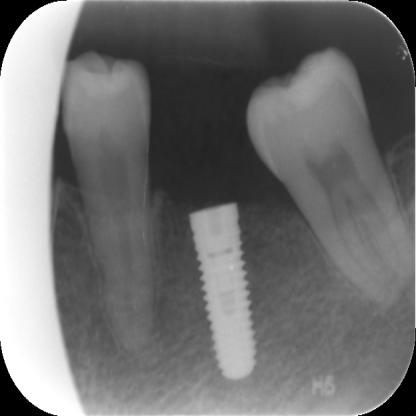Bego: (188, 204, 260, 388)
